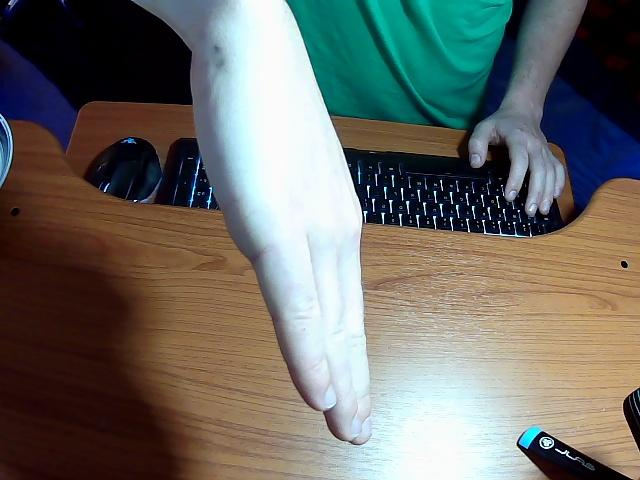paper: (138, 0, 584, 443)
